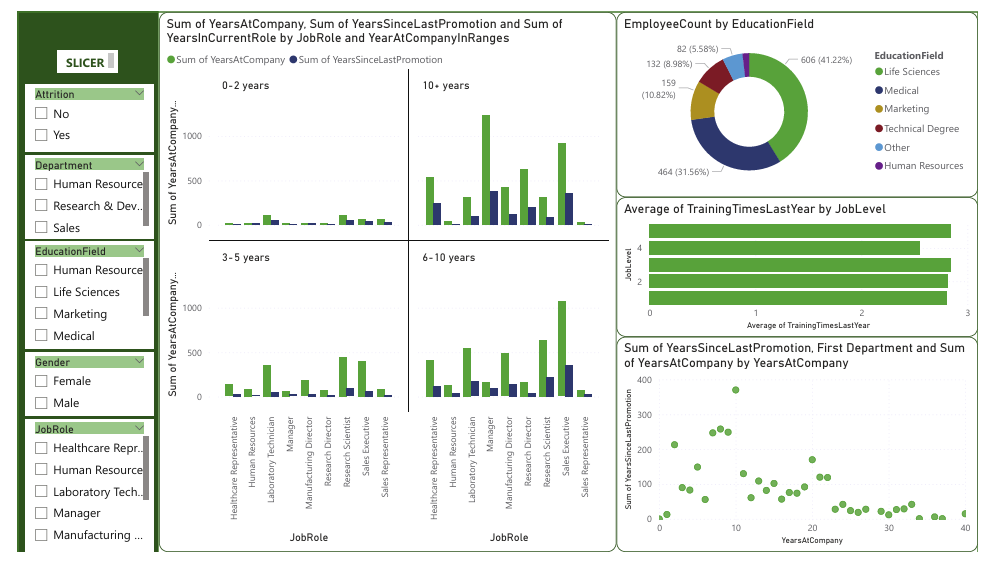

The dashboard page shown, as its layout file describes it:
{"tool":"powerbi","page":{"name":"Page 4","canvas":[1280,720],"ordinal":3},"visuals":[{"type":"shape","box":[154.5,0,1125.5,720.6],"z":0},{"type":"clusteredBarChart","fields":{"Y":["Avg(HR Analytics Data.TrainingTimesLastYear)"],"Category":["HR Analytics Data.JobLevel"]},"box":[798.3,246.7,481.7,186.7],"z":1000},{"type":"scatterChart","fields":{"Y":["Sum(HR Analytics Data.YearsSinceLastPromotion)"],"X":["HR Analytics Data.YearsAtCompany"]},"box":[798.3,433.3,481.7,286.7],"z":2000},{"type":"lineClusteredColumnComboChart","fields":{"Category":["HR Analytics Data.JobRole"],"Rows":["HR Analytics Data.YearAtCompanyInRanges"],"Y":["Sum(HR Analytics Data.YearsAtCompany)","Sum(HR Analytics Data.YearsSinceLastPromotion)"]},"box":[188.3,0,610,720],"z":3000},{"type":"shape","box":[0,0,188,720.6],"z":4000},{"type":"donutChart","title":"EmployeeCount by EducationField","fields":{"Category":["HR Analytics Data.EducationField"],"Y":["Sum(HR Analytics Data.EmployeeCount)"]},"box":[798.3,0,481.7,246.7],"z":5000},{"type":"slicer","fields":{"Values":["HR Analytics Data.Department"]},"box":[10,191.2,171.2,111.2],"z":6000},{"type":"slicer","fields":{"Values":["HR Analytics Data.EducationField"]},"box":[10,306.2,171.2,143.8],"z":7000},{"type":"slicer","fields":{"Values":["HR Analytics Data.Gender"]},"box":[10,453.8,171.2,85],"z":8000},{"type":"slicer","fields":{"Values":["HR Analytics Data.JobRole"]},"box":[10,542.5,171.2,177.5],"z":9000},{"type":"textbox","box":[52.9,51.4,81.4,30],"z":10000},{"type":"slicer","fields":{"Values":["HR Analytics Data.Attrition"]},"box":[10,97.1,171.4,90],"z":11000}]}

Visuals, with their boxes in screenshot pixels (x1, y1, x2, y2), scaled from the page's 1280x720 canvas onto the 991x569 screenshot:
shape: [x1=120, y1=0, x2=990, y2=568]
clusteredBarChart - Avg(HR Analytics Data.TrainingTimesLastYear) x HR Analytics Data.JobLevel: [x1=618, y1=195, x2=990, y2=343]
scatterChart - Sum(HR Analytics Data.YearsSinceLastPromotion) x HR Analytics Data.YearsAtCompany: [x1=618, y1=342, x2=990, y2=568]
lineClusteredColumnComboChart - HR Analytics Data.JobRole x HR Analytics Data.YearAtCompanyInRanges: [x1=146, y1=0, x2=618, y2=568]
shape: [x1=0, y1=0, x2=146, y2=568]
"EmployeeCount by EducationField" donutChart: [x1=618, y1=0, x2=990, y2=195]
slicer - HR Analytics Data.Department: [x1=8, y1=151, x2=140, y2=239]
slicer - HR Analytics Data.EducationField: [x1=8, y1=242, x2=140, y2=356]
slicer - HR Analytics Data.Gender: [x1=8, y1=359, x2=140, y2=426]
slicer - HR Analytics Data.JobRole: [x1=8, y1=429, x2=140, y2=568]
textbox: [x1=41, y1=41, x2=104, y2=64]
slicer - HR Analytics Data.Attrition: [x1=8, y1=77, x2=140, y2=148]
